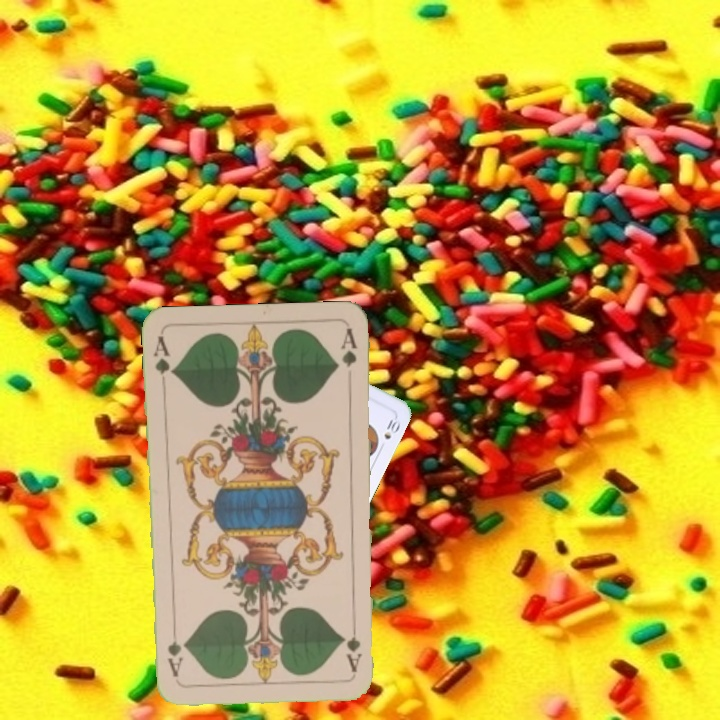GA: (149, 331, 176, 377), (344, 616, 364, 675)
